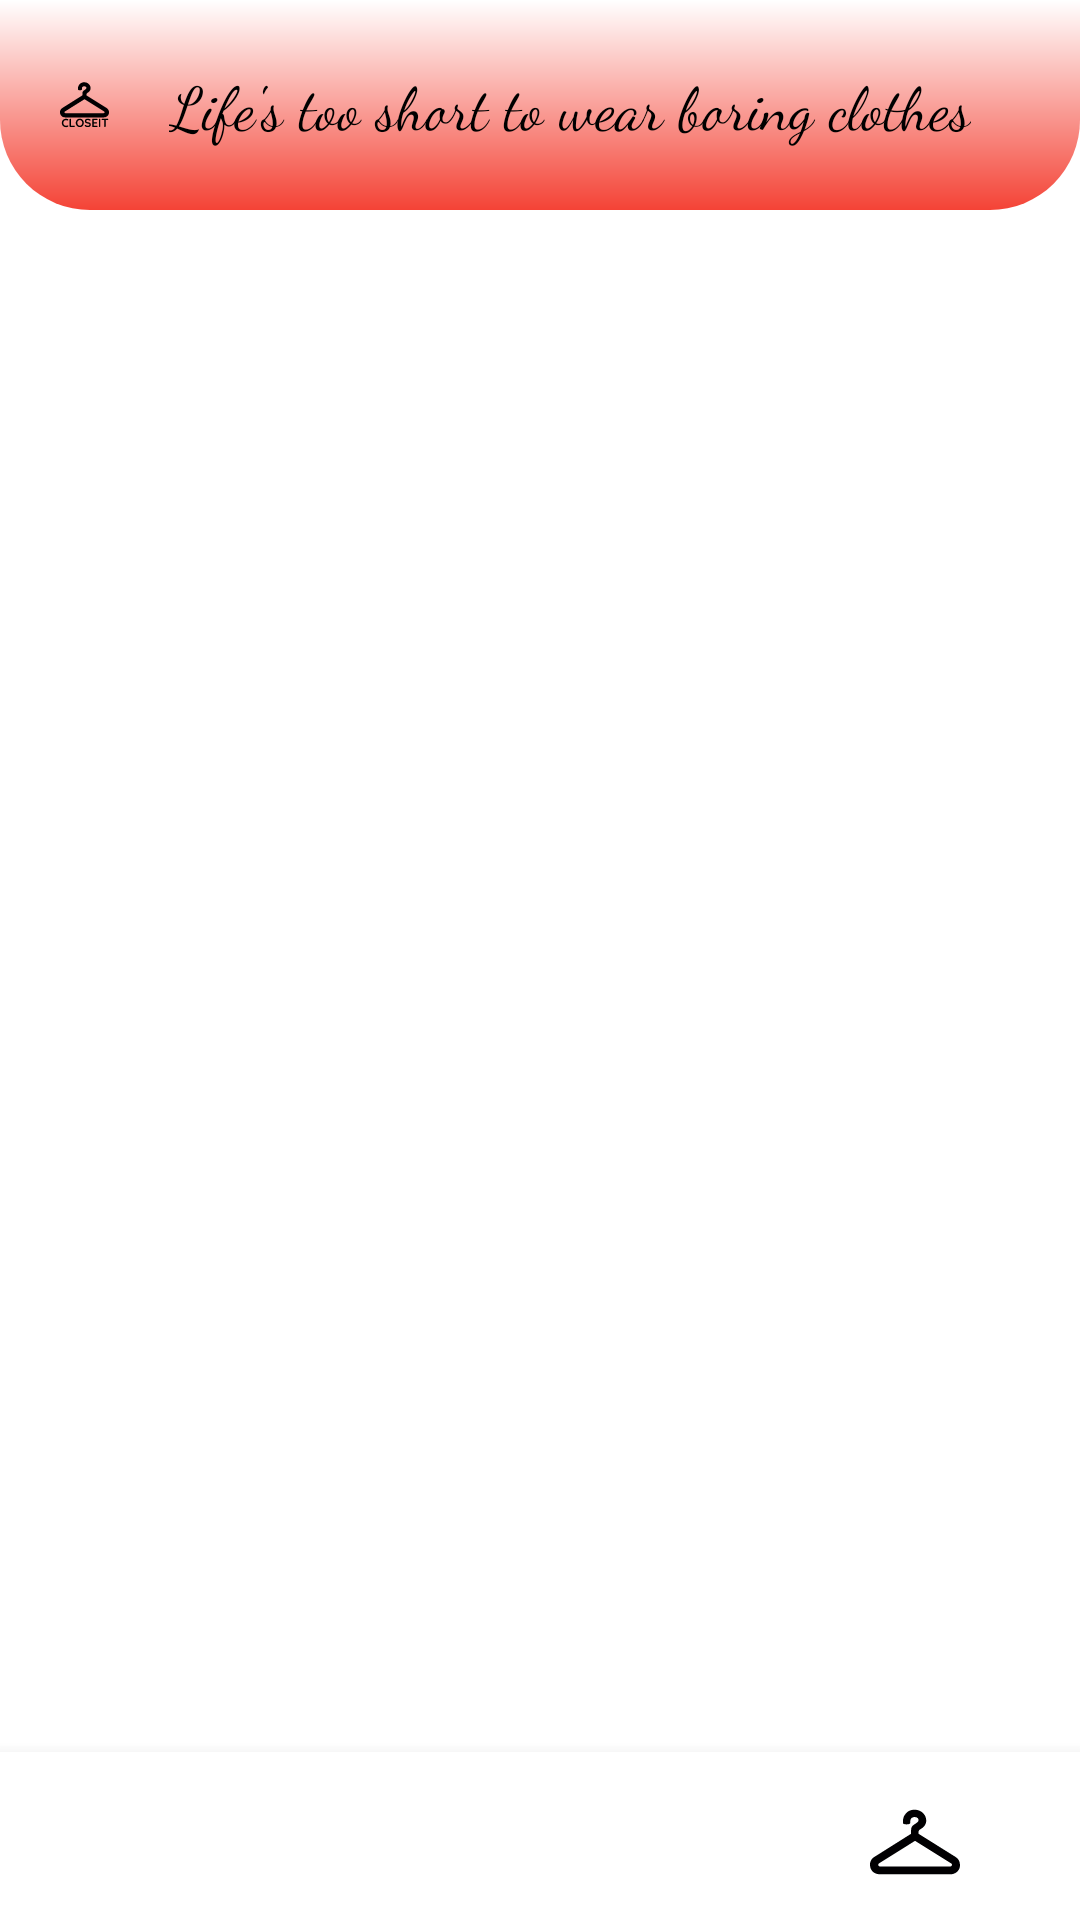

Locate icon controls on the screen. Image size 1080x1920, boxes as (x1, y1, x2, y2).
hanger: (870, 1809, 960, 1875)
